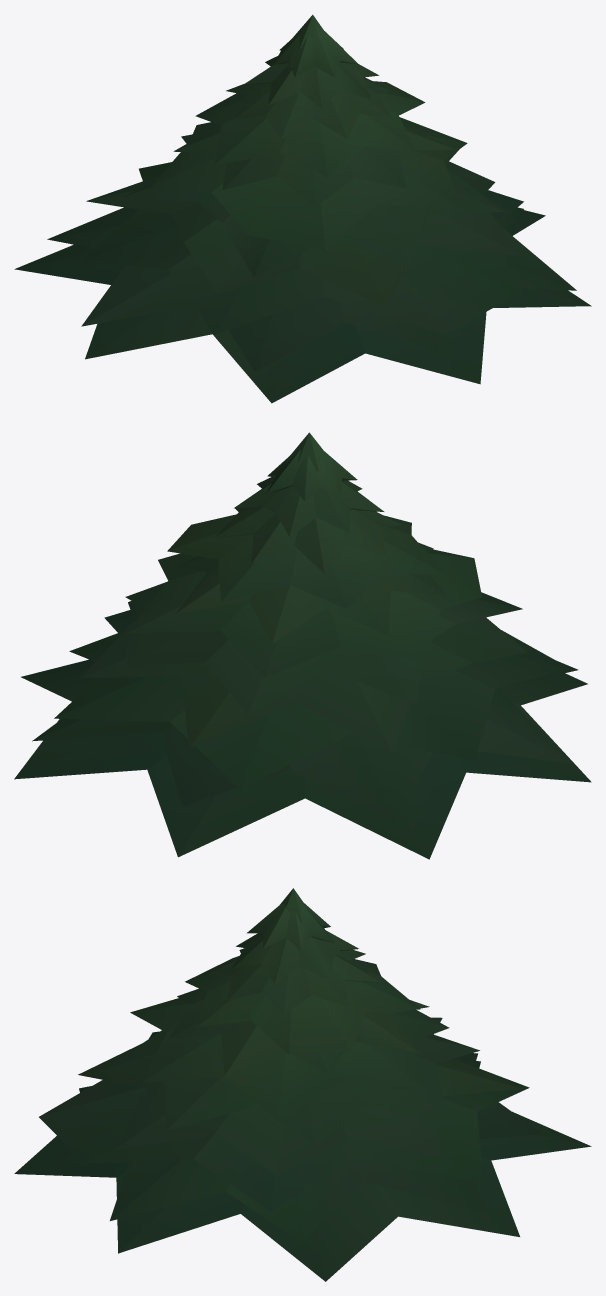
File: veg_gran_0.glb
3 views of the same model, one above another, from view 1: azimuth 30°, elevation 25°; view 2: azimuth 150°, elevation 25°; view 3: azimuth 270°, elevation 25° (orthographic). The views are drawn at different scales.
Parts seen in each view (by area): view 1: geometry_0; view 2: geometry_0; view 3: geometry_0.
Boxes of the visible parts, left/top/right/bottom form: geometry_0: left=14, top=14, right=591, bottom=403; geometry_0: left=14, top=432, right=591, bottom=859; geometry_0: left=14, top=888, right=591, bottom=1281.
Bounding box in the file's own units: 1.88 × 1 × 1.92.
